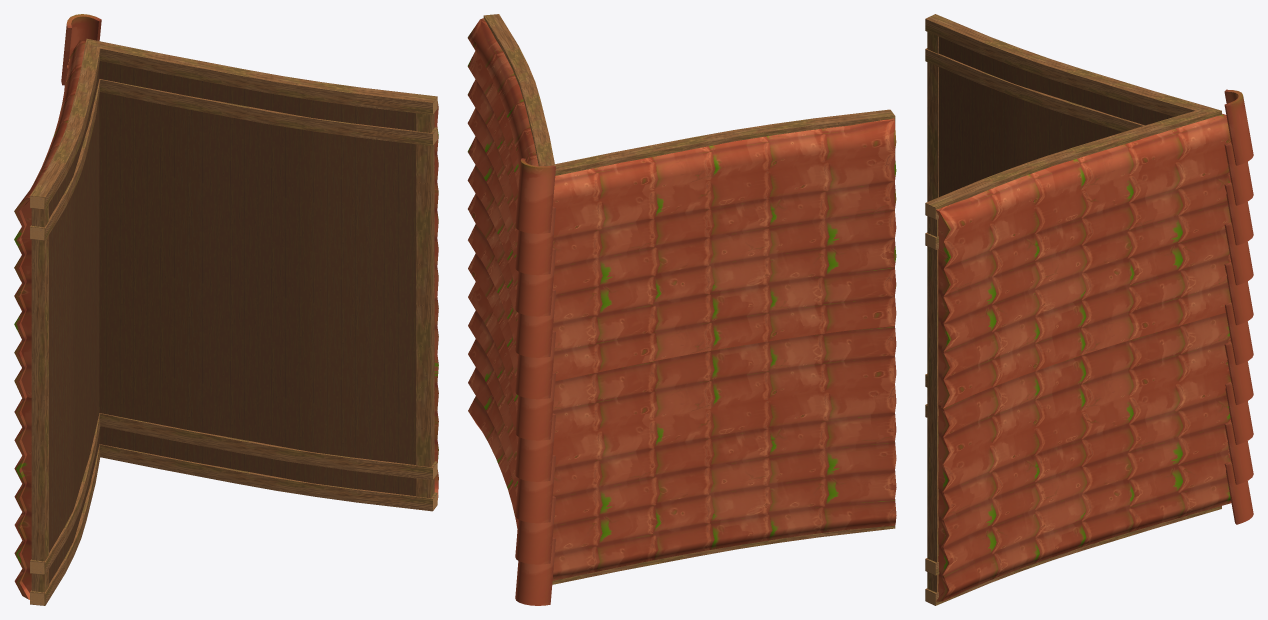
The model's file is Roof_RoundTiles_6x6.fbx.
3 views of the same model, side by side, from view 1: azimuth 30°, elevation 25°; view 2: azimuth 150°, elevation 25°; view 3: azimuth 270°, elevation 25° (orthographic). The views are drawn at different scales.
Visible parts, largest first — view 1: Roof_RoundTiles_6x6; view 2: Roof_RoundTiles_6x6; view 3: Roof_RoundTiles_6x6.
Part boxes in pixels (x1,y1,x2,y2): Roof_RoundTiles_6x6: (14, 14, 438, 605); Roof_RoundTiles_6x6: (467, 14, 896, 605); Roof_RoundTiles_6x6: (925, 14, 1253, 605).
Size of the model in its own units: 8.25 by 8.03 by 5.67.
